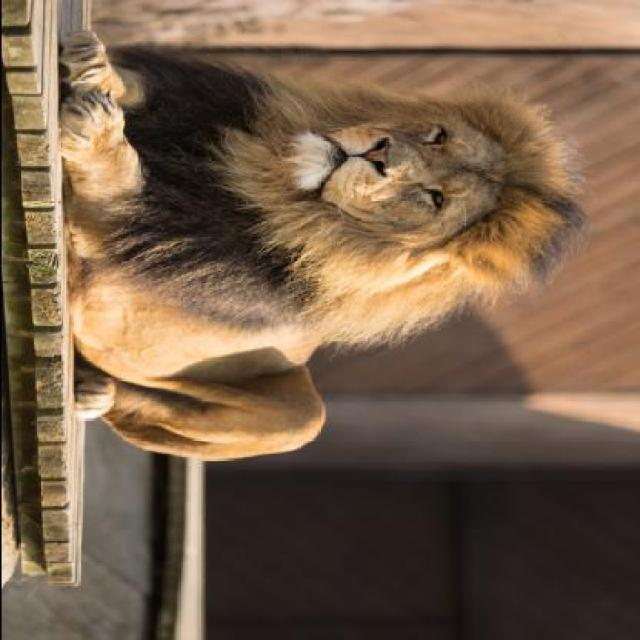Lion: (55, 2, 597, 476)
